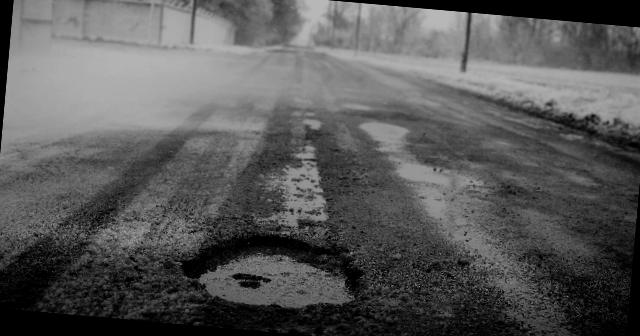Pothole: (166, 217, 373, 336)
